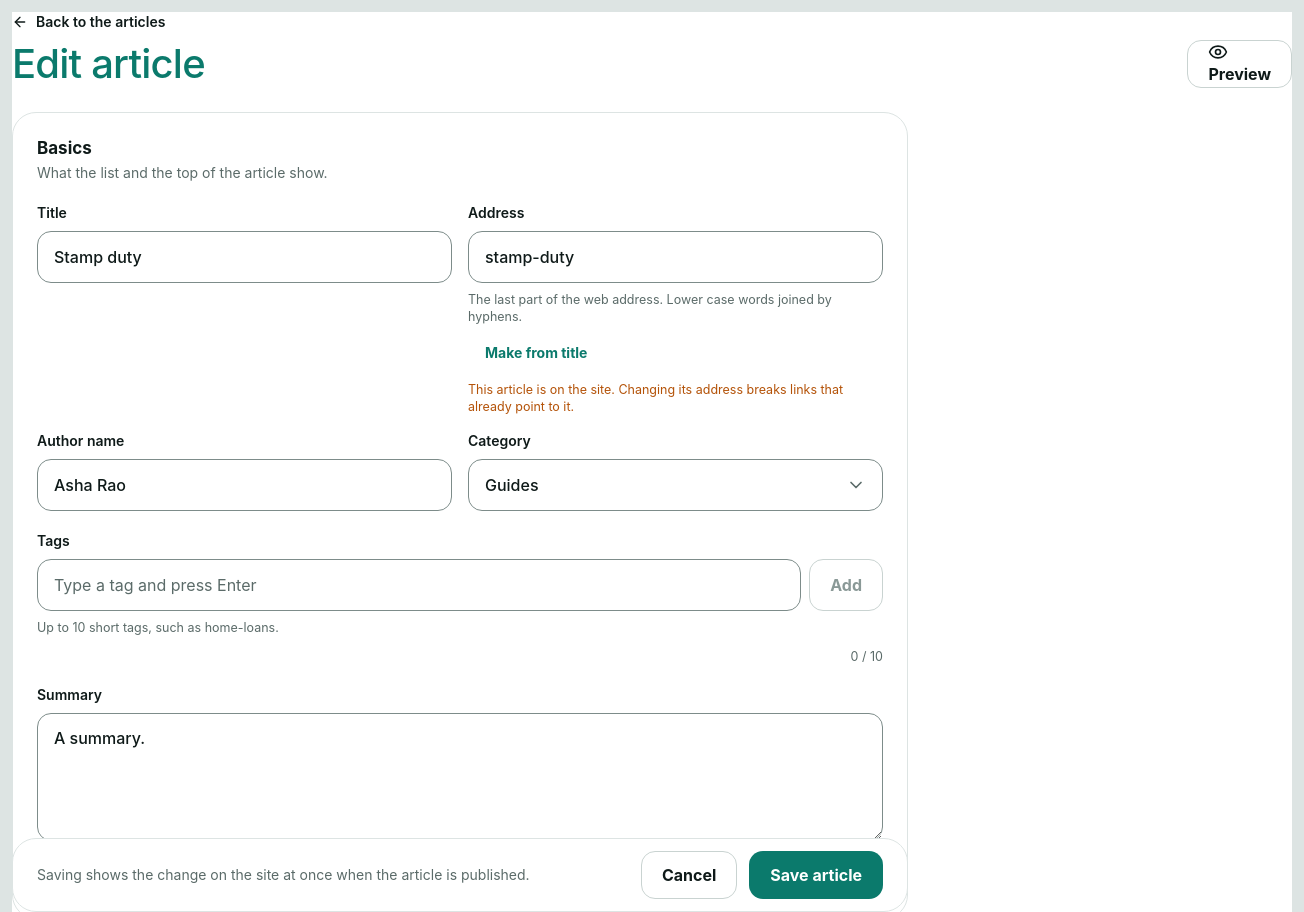
Test case: BlogEditor (ADR-143, ADR-144): the article page › puts each refused value on its box and keeps what was typed and the page
Clear the field labelled "Title" at (244, 257), box [37, 231, 452, 283]
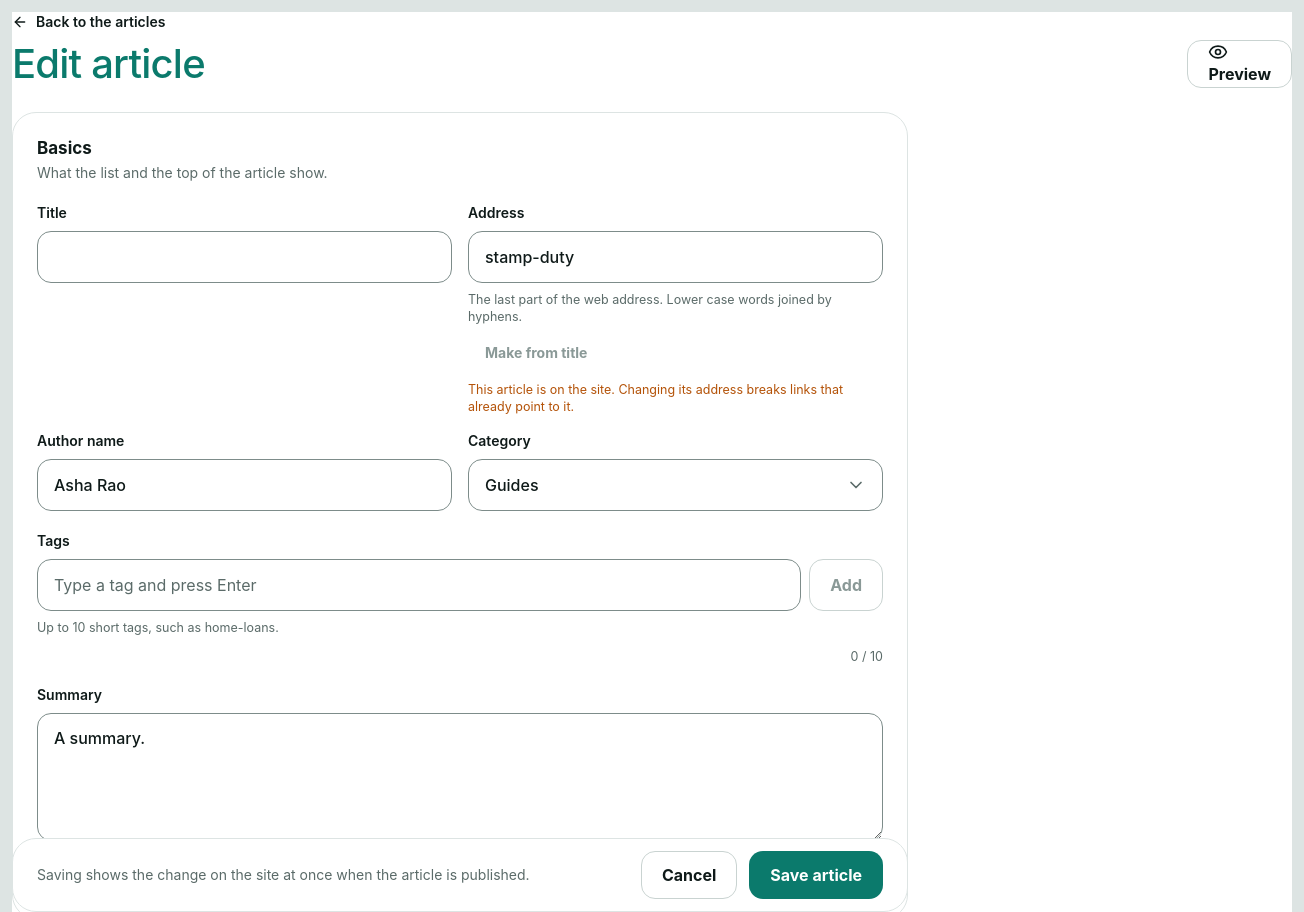
Click the button "Save article" at (816, 875), box [749, 851, 883, 899]
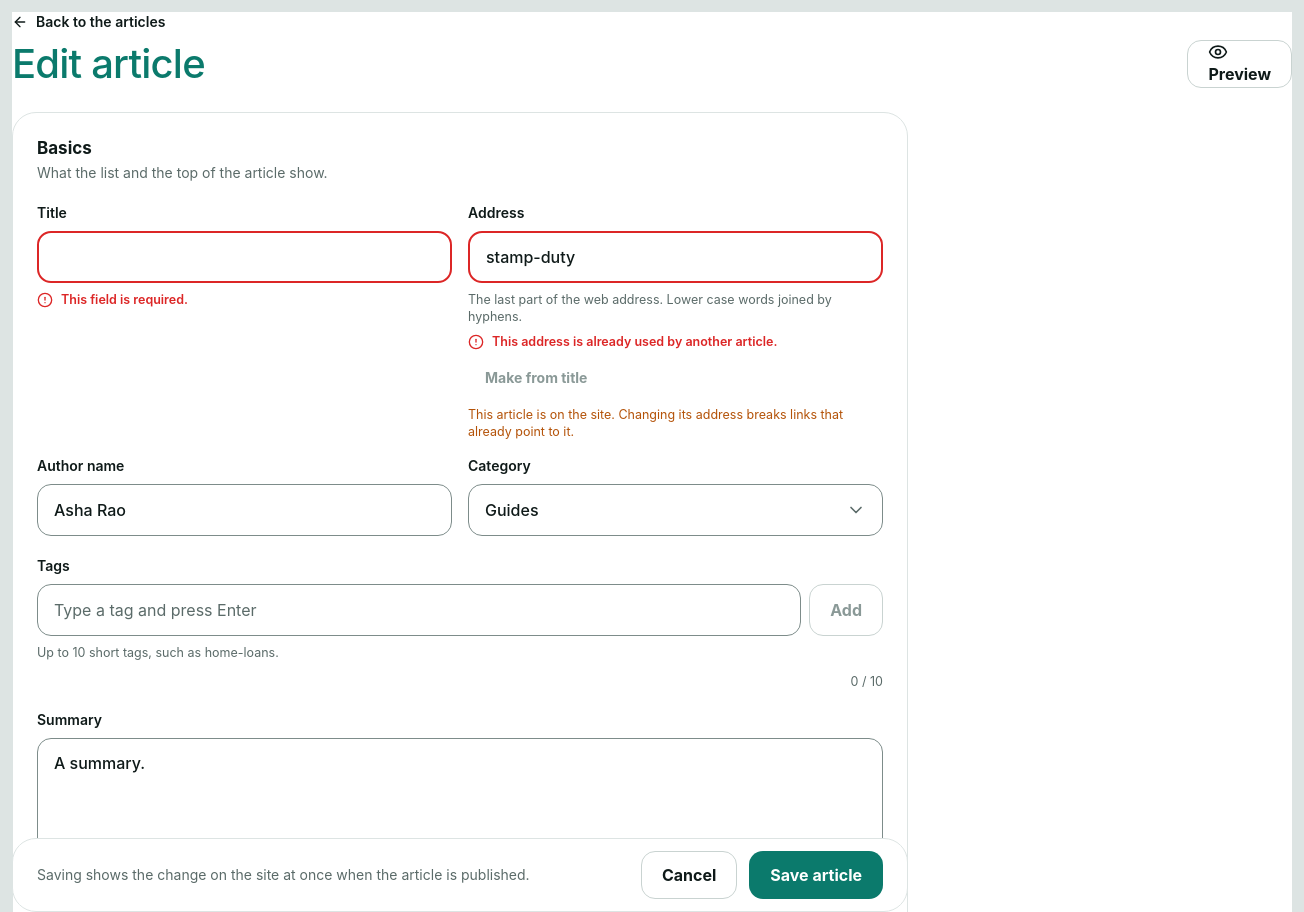
expect the text "This address is already used by another article." is shown: met, box [468, 334, 777, 350]
